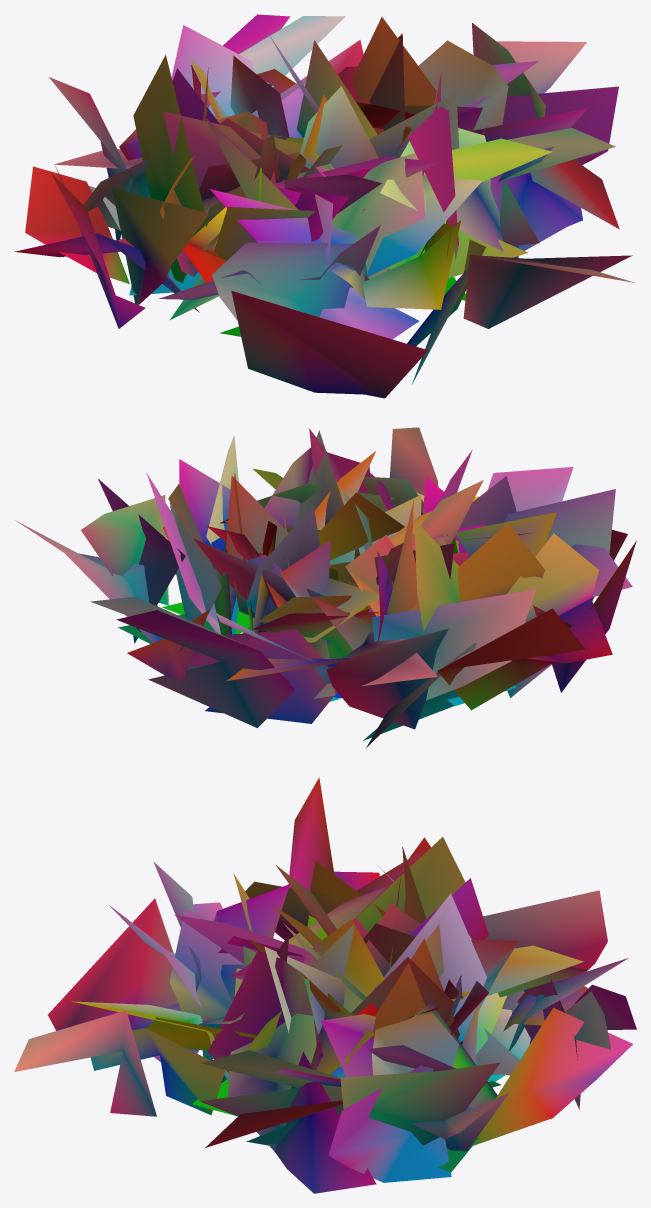
Rendered from Kikuyu_Grass_wiljearqx_High_wiljearqx_VarG_LOD2.fbx.
3 views of the same model, one above another, from view 1: azimuth 30°, elevation 25°; view 2: azimuth 150°, elevation 25°; view 3: azimuth 270°, elevation 25° (orthographic). The views are drawn at different scales.
Parts seen in each view (by area): view 1: _8u4w_VarG_LOD5; view 2: _8u4w_VarG_LOD5; view 3: _8u4w_VarG_LOD5.
Part boxes in pixels (bbox=[...]): _8u4w_VarG_LOD5: bbox=[14, 14, 635, 398]; _8u4w_VarG_LOD5: bbox=[15, 427, 636, 747]; _8u4w_VarG_LOD5: bbox=[14, 777, 636, 1193].
Size of the model in its own units: 103 by 38.28 by 94.07.
